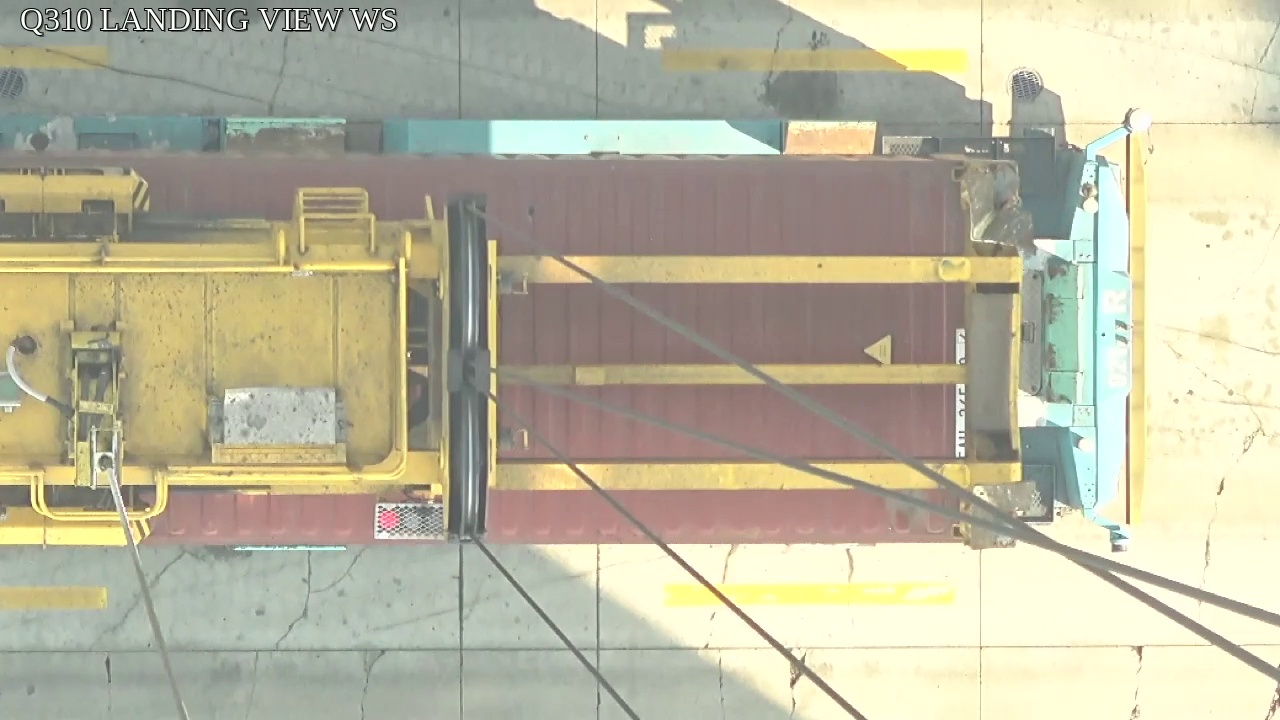right: (440, 193, 494, 549)
